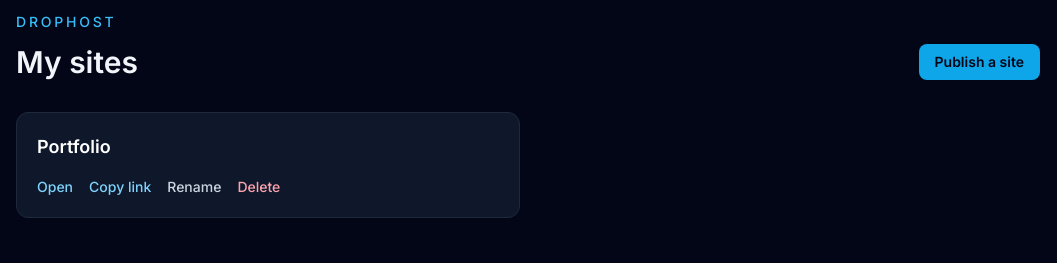
MySitesPage › copies the absolute public site URL
This screenshot has width=1057, height=263.
Expected: the heading "Portfolio" is shown, [37,136,111,157]
Click the button "Copy link". click: x=120, y=187
box: [89,177,151,197]
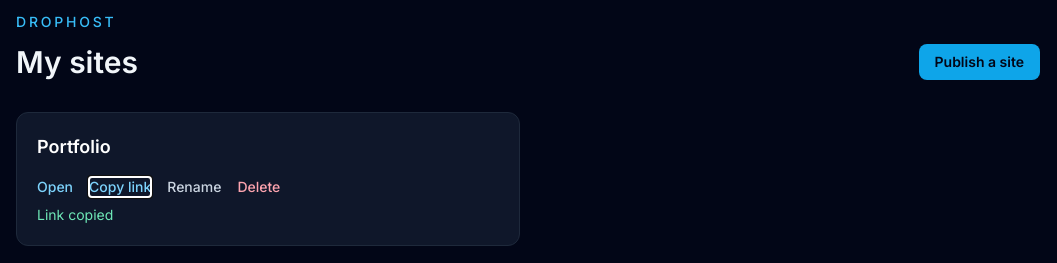
Expected: the message reads "Link copied", [37,206,113,223]
